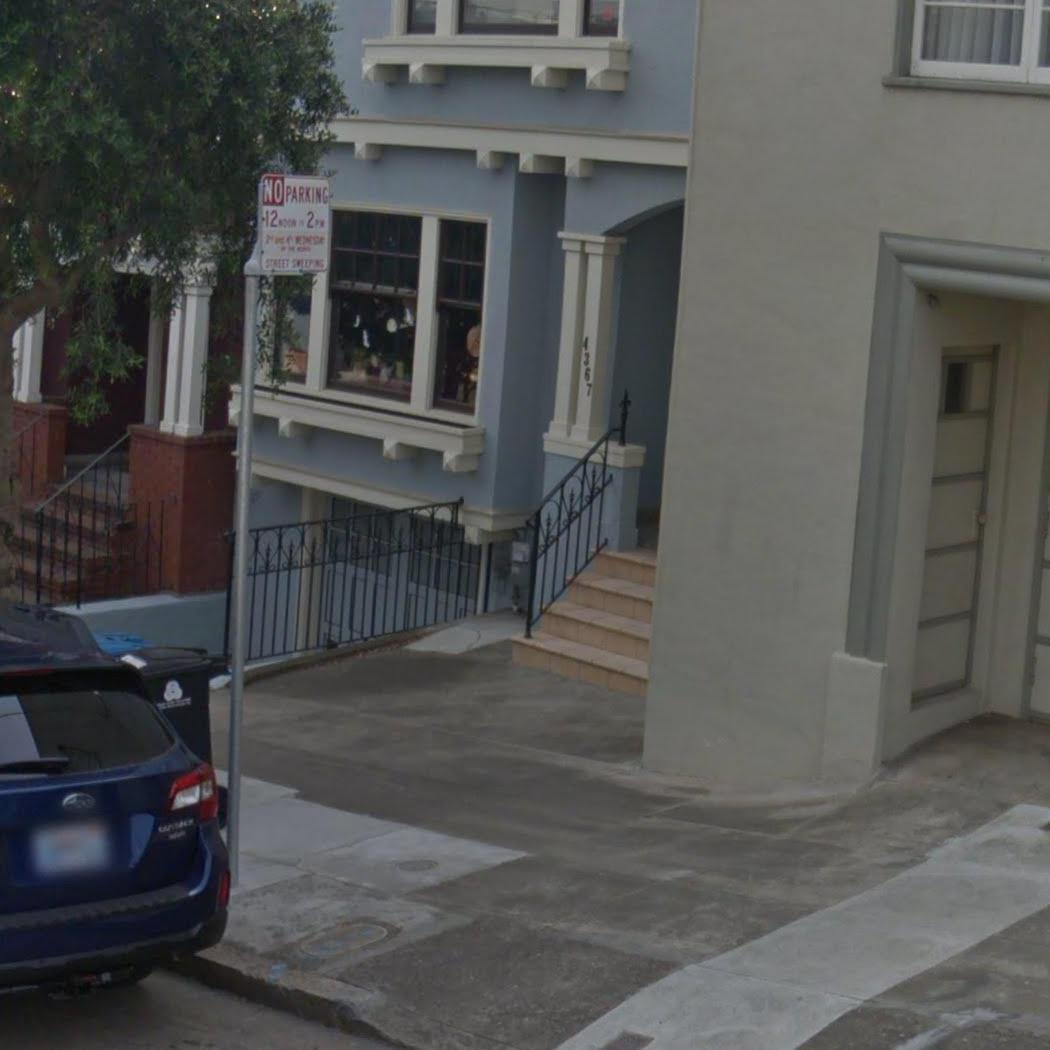No Parking: (253, 168, 337, 281)
